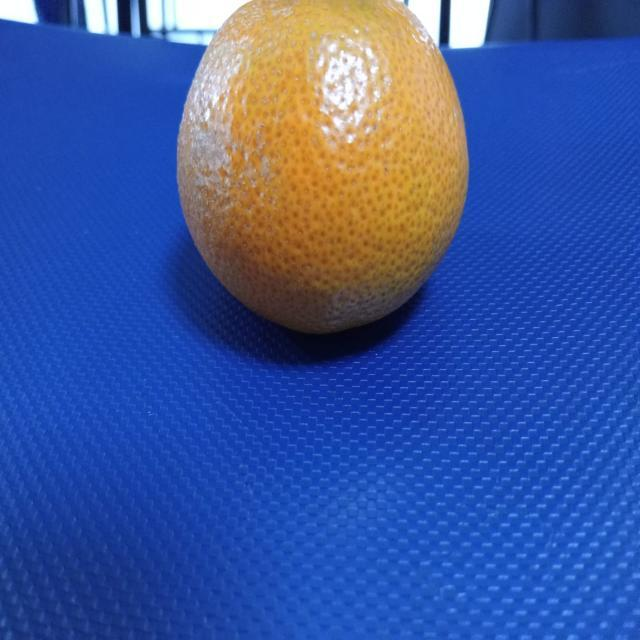Jeruk Mandarin: (168, 0, 480, 350)
